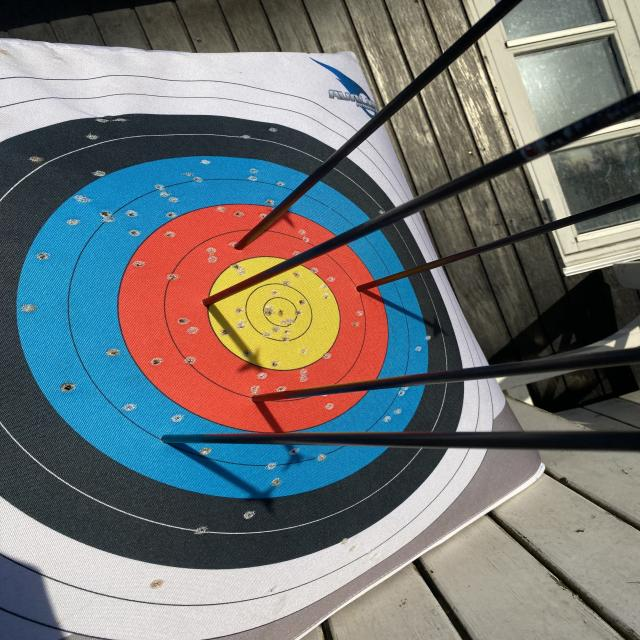Arrow_Blue: (147, 411, 211, 468)
Arrow_Red: (241, 381, 290, 415), (187, 289, 235, 321), (224, 226, 264, 260), (345, 272, 376, 301)
